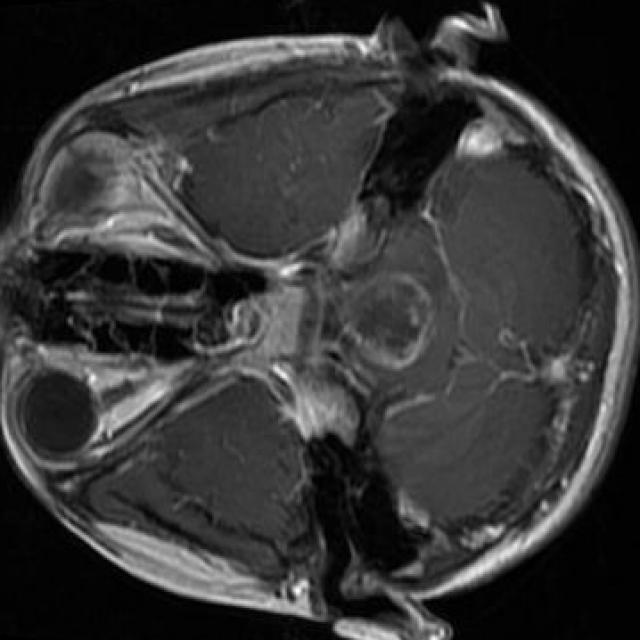glioma: (337, 273, 433, 371)
